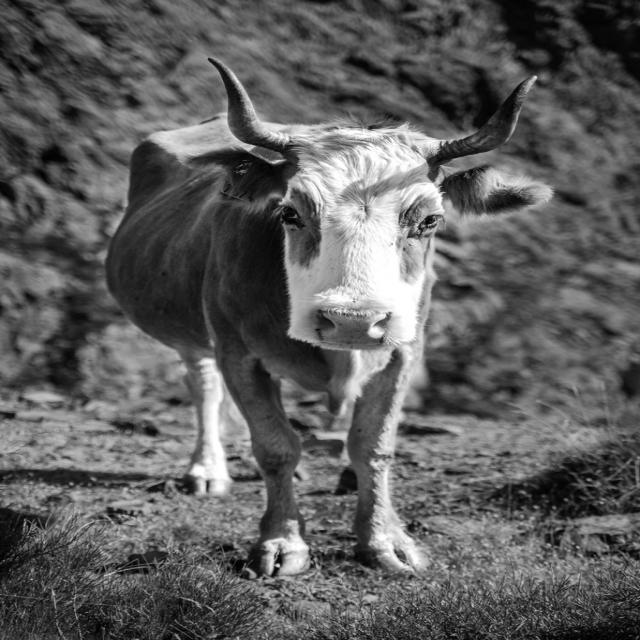Cattle: (106, 58, 556, 580)
